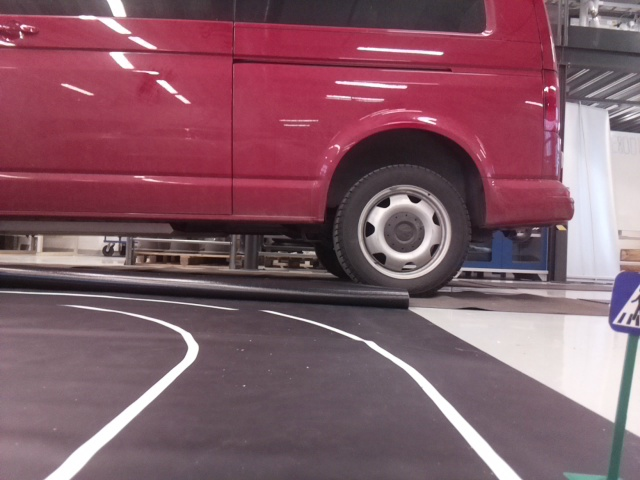Crosswalk: (611, 267, 639, 330)
